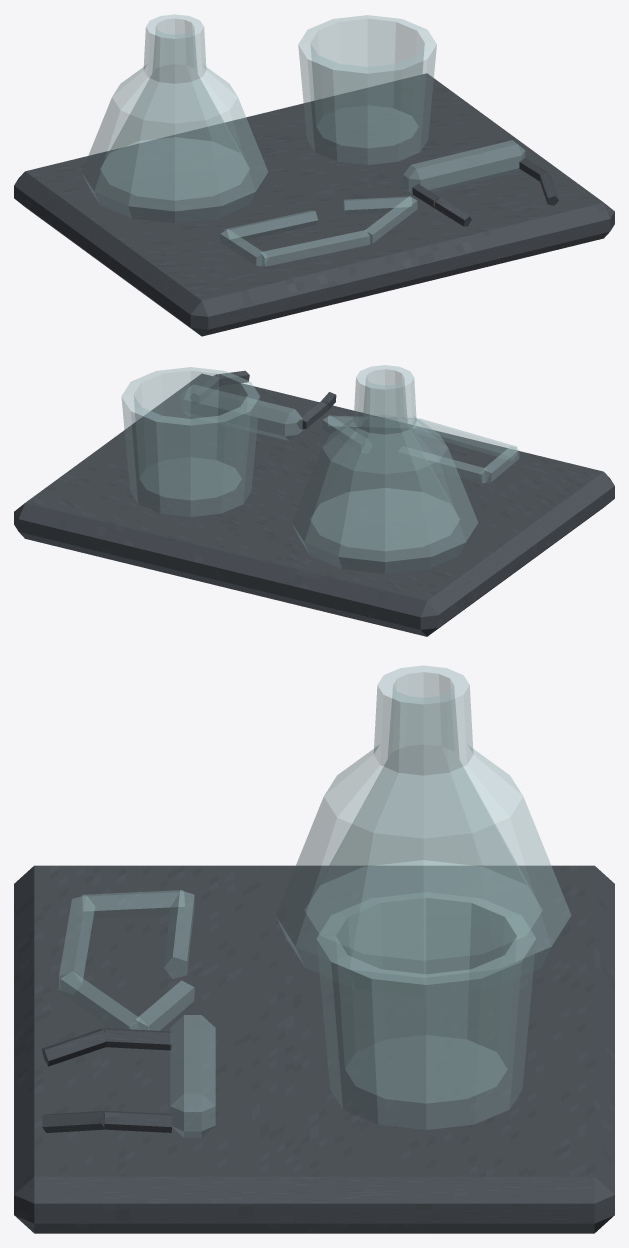
File: chemistry_set_basic.glb
3 views of the same model, one above another, from view 1: azimuth 30°, elevation 25°; view 2: azimuth 150°, elevation 25°; view 3: azimuth 270°, elevation 25° (orthographic). The views are drawn at different scales.
Visible parts, largest first — view 1: block_basic kit carrying tray, block_clear bench flask, block_small measuring cup, block_clear safety glasses, block_coiled clear hose 2, block_coiled clear hose 0, block_coiled clear hose 4, block_coiled clear hose 3, block_coiled clear hose 1, block_glasses temple 1; view 2: block_basic kit carrying tray, block_clear bench flask, block_small measuring cup, block_clear safety glasses, block_coiled clear hose 2, block_coiled clear hose 0, block_glasses temple 0 (×2), block_coiled clear hose 1, block_coiled clear hose 3, block_coiled clear hose 4, block_glasses temple 1; view 3: block_basic kit carrying tray, block_clear bench flask, block_small measuring cup, block_clear safety glasses, block_glasses temple 0 (×2), block_coiled clear hose 1, block_glasses temple 1 (×2), block_coiled clear hose 2, block_coiled clear hose 3, block_coiled clear hose 0, block_coiled clear hose 4.
Boxes of the visible parts, x1=… form: block_basic kit carrying tray: x1=14, y1=73, x2=614, y2=336; block_clear bench flask: x1=82, y1=14, x2=267, y2=223; block_small measuring cup: x1=298, y1=15, x2=436, y2=164; block_clear safety glasses: x1=403, y1=140, x2=525, y2=193; block_coiled clear hose 2: x1=259, y1=230, x2=369, y2=266; block_coiled clear hose 0: x1=222, y1=210, x2=317, y2=243; block_coiled clear hose 4: x1=343, y1=196, x2=411, y2=214; block_coiled clear hose 3: x1=360, y1=196, x2=417, y2=243; block_coiled clear hose 1: x1=220, y1=229, x2=267, y2=266; block_glasses temple 1: x1=434, y1=198, x2=471, y2=226; block_basic kit carrying tray: x1=14, y1=373, x2=614, y2=636; block_clear bench flask: x1=292, y1=365, x2=478, y2=573; block_small measuring cup: x1=121, y1=367, x2=259, y2=516; block_clear safety glasses: x1=180, y1=385, x2=302, y2=440; block_coiled clear hose 2: x1=414, y1=418, x2=517, y2=460; block_coiled clear hose 0: x1=423, y1=452, x2=488, y2=483; block_glasses temple 0 (×2): x1=190, y1=375, x2=327, y2=429; block_coiled clear hose 1: x1=478, y1=446, x2=519, y2=482; block_coiled clear hose 3: x1=328, y1=415, x2=415, y2=432; block_coiled clear hose 4: x1=322, y1=415, x2=357, y2=445; block_glasses temple 1: x1=215, y1=370, x2=249, y2=385; block_basic kit carrying tray: x1=14, y1=865, x2=614, y2=1233; block_clear bench flask: x1=276, y1=665, x2=571, y2=981; block_small measuring cup: x1=316, y1=892, x2=536, y2=1129; block_clear safety glasses: x1=170, y1=1015, x2=215, y2=1137; block_glasses temple 0 (×2): x1=104, y1=1028, x2=172, y2=1132; block_coiled clear hose 1: x1=81, y1=890, x2=184, y2=918; block_glasses temple 1 (×2): x1=42, y1=1028, x2=106, y2=1132; block_coiled clear hose 2: x1=59, y1=895, x2=94, y2=993; block_coiled clear hose 3: x1=60, y1=971, x2=149, y2=1029; block_coiled clear hose 0: x1=164, y1=890, x2=194, y2=978; block_coiled clear hose 4: x1=128, y1=980, x2=194, y2=1030.
Bounding box in the file's own units: 0.2662 × 0.1179 × 0.206.
2 materials, 2 textured.
